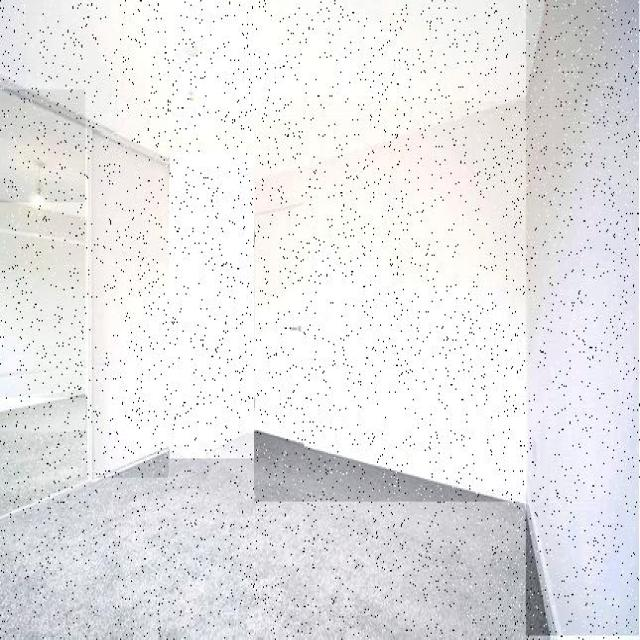Wall: (0, 433, 547, 639), (255, 102, 526, 502), (0, 1, 543, 177), (526, 1, 640, 636), (89, 133, 169, 477), (170, 152, 254, 458), (0, 203, 85, 411), (0, 91, 85, 217), (0, 398, 85, 515)
